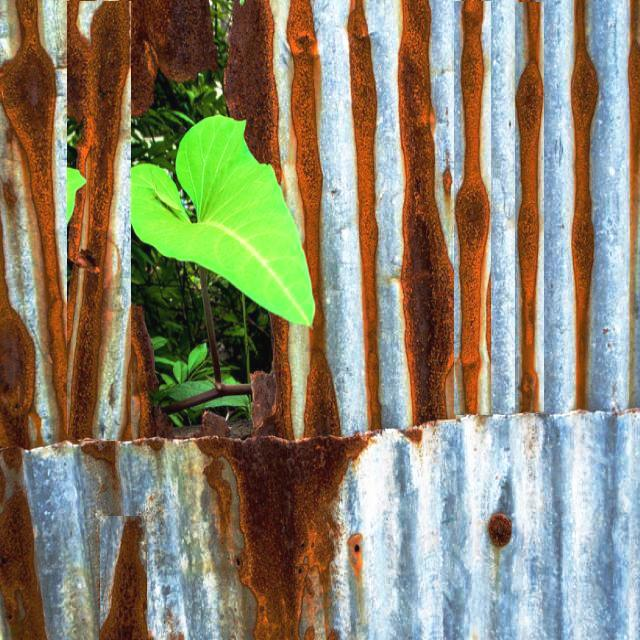Corrosion: (200, 437, 368, 640), (0, 0, 67, 426), (67, 0, 130, 440), (399, 0, 455, 424), (287, 0, 341, 436), (348, 0, 382, 430), (517, 0, 545, 412), (573, 0, 600, 410), (131, 0, 216, 114), (0, 228, 34, 448), (0, 489, 46, 640), (121, 305, 172, 440), (99, 518, 151, 640), (272, 314, 294, 440), (630, 0, 640, 242), (251, 372, 276, 436), (489, 513, 513, 548), (201, 412, 229, 438)
